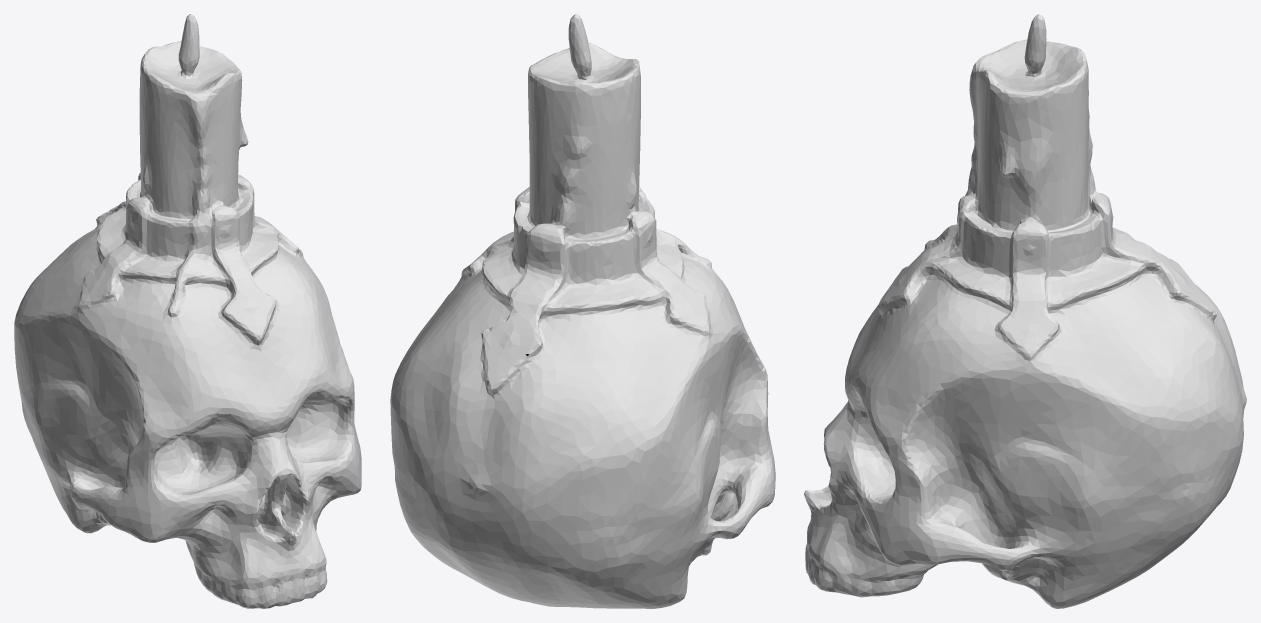
File: nec_skull_candle01.glb
The picture shows the model from 3 angles, left to right: view 1: azimuth 30°, elevation 25°; view 2: azimuth 150°, elevation 25°; view 3: azimuth 270°, elevation 25°; orthographic projection. The views are drawn at different scales.
Visible parts, largest first — view 1: Low; view 2: Low; view 3: Low.
Boxes of the visible parts, x1=… form: Low: x1=14, y1=14, x2=361, y2=608; Low: x1=390, y1=14, x2=775, y2=608; Low: x1=804, y1=14, x2=1246, y2=608.
Size of the model in its own units: 1.04 by 1.99 by 1.42.
Materials: 1 (1 with a texture image).
